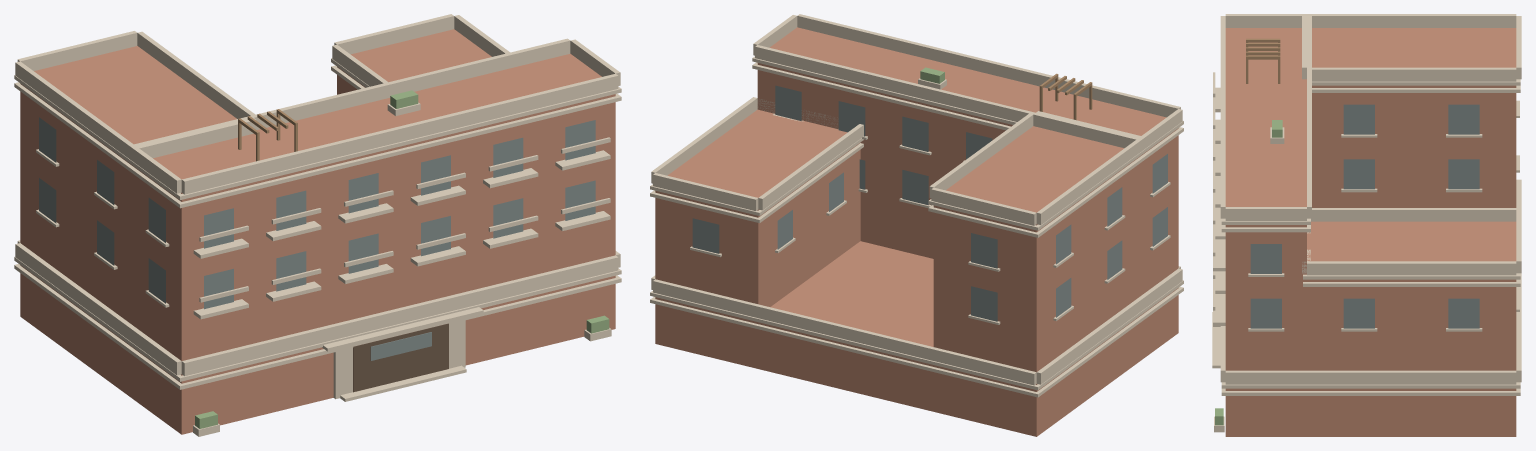
The model's file is residential_3x2_court.glb.
3 views of the same model, side by side, from view 1: azimuth 30°, elevation 25°; view 2: azimuth 150°, elevation 25°; view 3: azimuth 270°, elevation 25° (orthographic). The views are drawn at different scales.
Visible parts, largest first — view 1: residential_3x2_court_0; view 2: residential_3x2_court_0; view 3: residential_3x2_court_0.
Part boxes in pixels (x1,y1,x2,y2): residential_3x2_court_0: (14, 14, 621, 436); residential_3x2_court_0: (650, 14, 1183, 436); residential_3x2_court_0: (1212, 14, 1521, 436).
Size of the model in its own units: 23 by 13.5 by 15.4.
